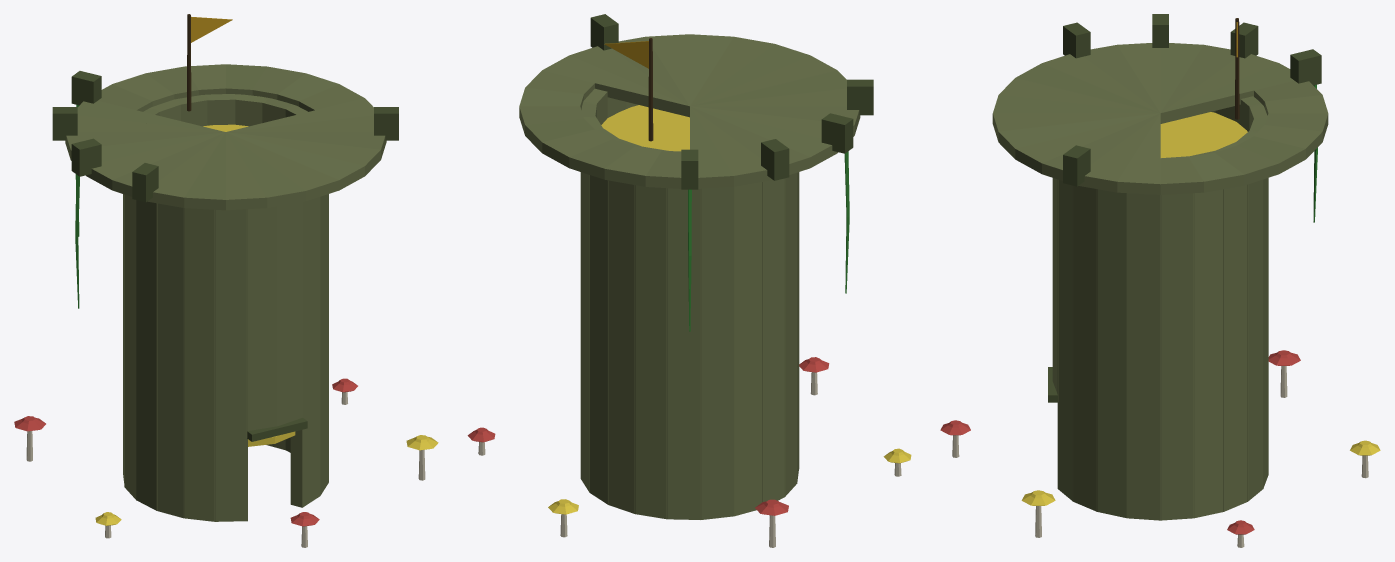
Rendered from tower_jungle_hollow.glb.
The picture shows the model from 3 angles, left to right: view 1: azimuth 30°, elevation 25°; view 2: azimuth 150°, elevation 25°; view 3: azimuth 270°, elevation 25°; orthographic projection. The views are drawn at different scales.
Visible parts, largest first — view 1: tower_jungle_hollow; view 2: tower_jungle_hollow; view 3: tower_jungle_hollow.
Part boxes in pixels (bbox=[...]): tower_jungle_hollow: bbox=[14, 14, 438, 547]; tower_jungle_hollow: bbox=[467, 14, 911, 547]; tower_jungle_hollow: bbox=[940, 14, 1380, 547].
Size of the model in its own units: 16.94 by 21 by 18.37.
